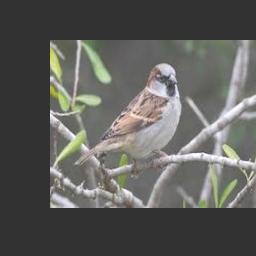Sparrow: (75, 63, 182, 167)
